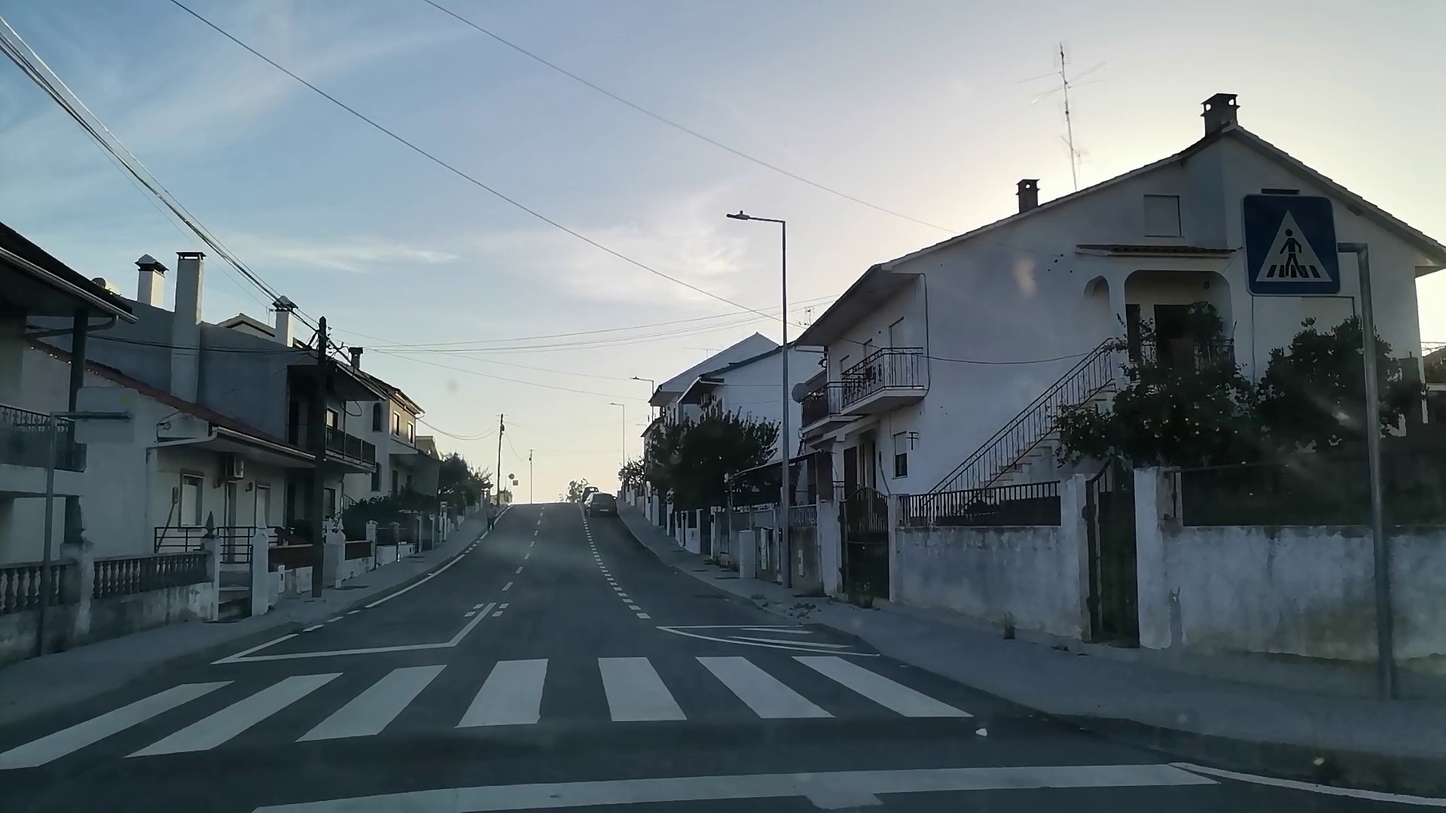Stairs: (0, 654, 968, 774)
